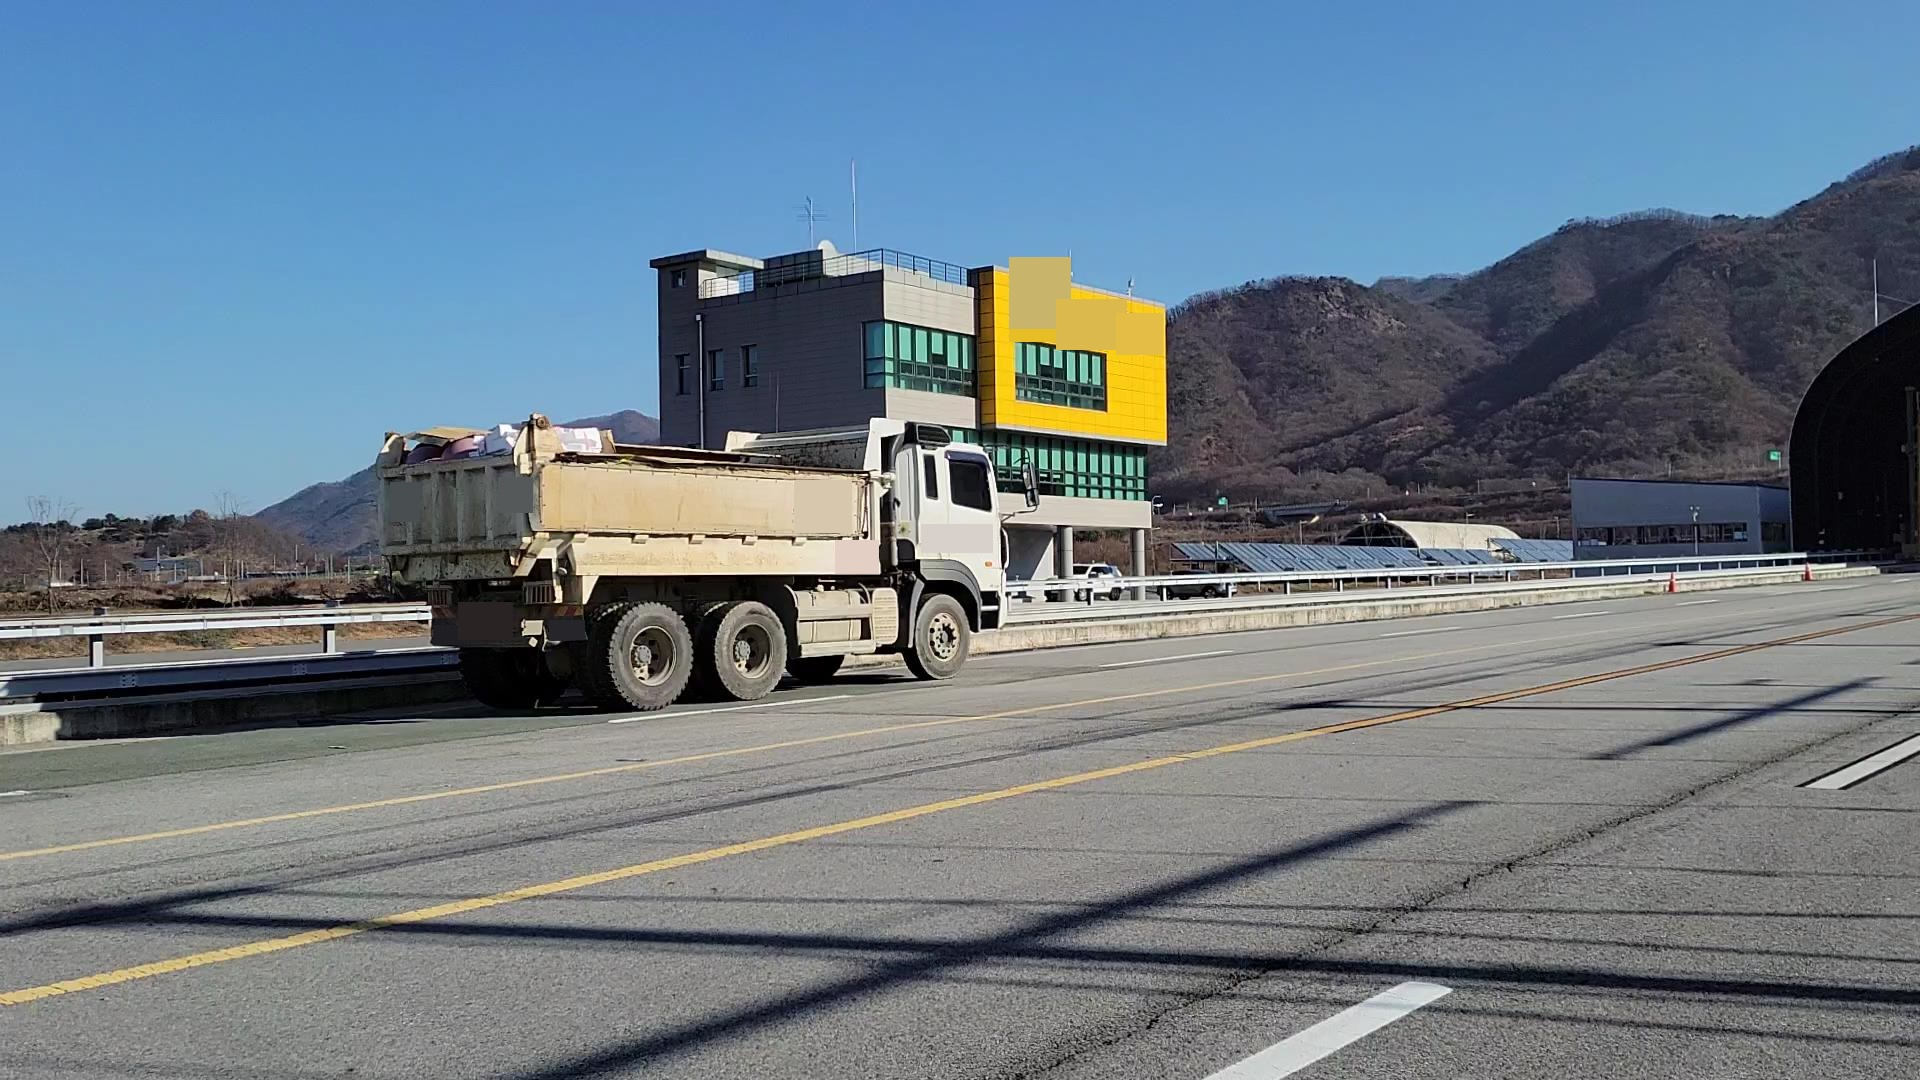불법차량: (376, 417, 1039, 710)
